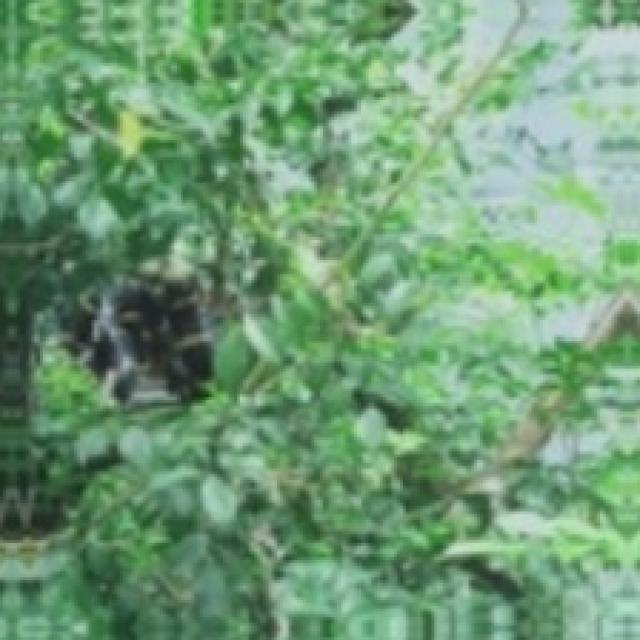mangrove cat snake: (69, 260, 211, 400)
